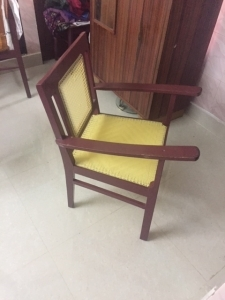chair: (36, 32, 202, 240)
